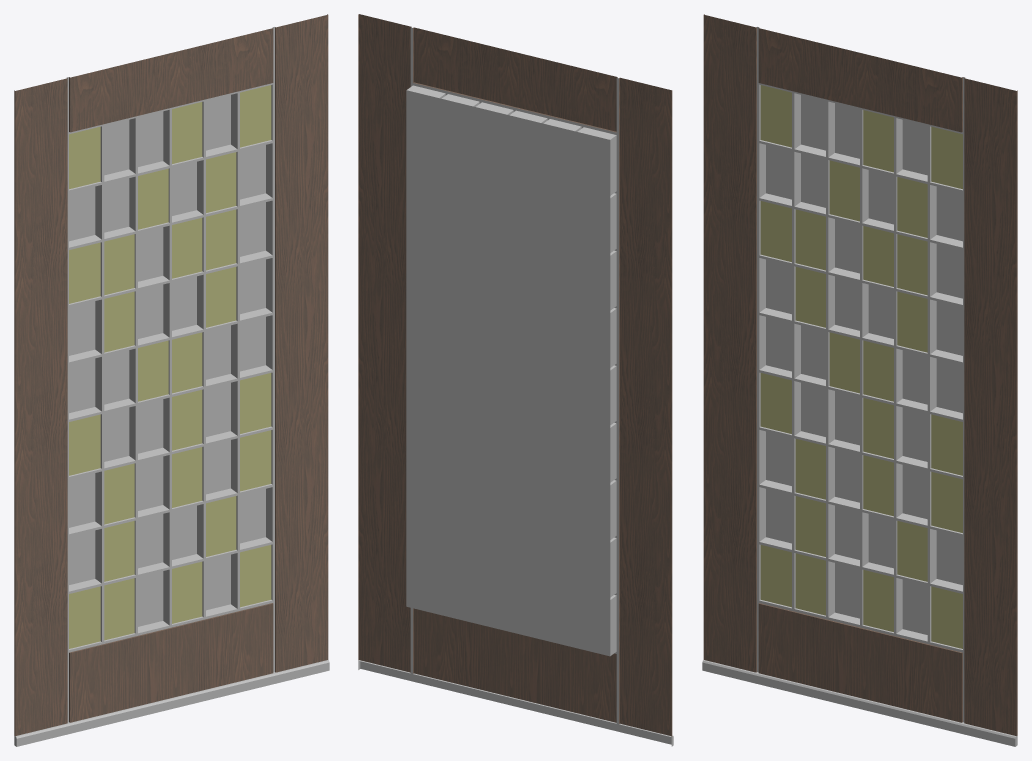
The picture shows the model from 3 angles, left to right: view 1: azimuth 30°, elevation 25°; view 2: azimuth 150°, elevation 25°; view 3: azimuth 330°, elevation 25°; orthographic projection.
Visible parts, largest first — view 1: M_W_002_a_4x8; view 2: M_W_002_a_4x8; view 3: M_W_002_a_4x8.
Part boxes in pixels (box(x1,y1,x2,y2)): M_W_002_a_4x8: box(14, 14, 329, 746); M_W_002_a_4x8: box(358, 14, 673, 746); M_W_002_a_4x8: box(702, 14, 1017, 746).
Bounding box in the file's own units: 4 × 8 × 0.1945.
